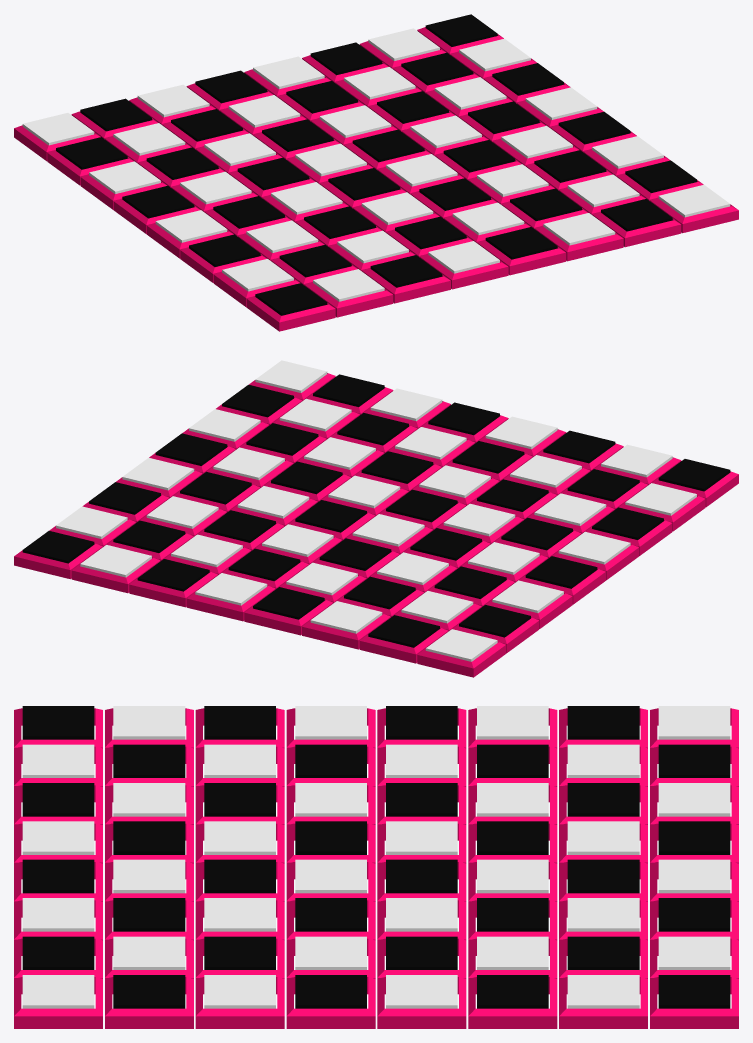
The model's file is chess4.gltf.
The picture shows the model from 3 angles, top to bottom: view 1: azimuth 30°, elevation 25°; view 2: azimuth 150°, elevation 25°; view 3: azimuth 270°, elevation 25°; orthographic projection. The views are drawn at different scales.
Parts seen in each view (by area): view 1: trim.049, tile.030, tile.003, tile.008, tile.009, tile.016, tile.019, tile.025, tile.039, tile, tile.010, tile.015 (+116 smaller); view 2: trim.036, tile.052, tile.002, tile.008, tile.009, tile.042, tile.055, tile.056, tile.059, tile.001, tile.011, tile.014 (+116 smaller); view 3: tile.024, tile.040, tile.032, tile.041, tile, tile.001, tile.016, tile.056, tile.025, tile.026, tile.028, tile.029 (+116 smaller).
Boxes of the visible parts, left/top/right/bottom form: trim.049: left=246, top=296, right=335, bottom=331; tile.030: left=401, top=52, right=473, bottom=85; tile.003: left=328, top=168, right=400, bottom=200; tile.008: left=122, top=185, right=194, bottom=218; tile.009: left=155, top=210, right=227, bottom=242; tile.016: left=319, top=105, right=391, bottom=137; tile.019: left=146, top=147, right=218, bottom=179; tile.025: left=228, top=95, right=300, bottom=127; tile.039: left=310, top=42, right=382, bottom=75; tile: left=352, top=129, right=424, bottom=162; tile.010: left=525, top=87, right=597, bottom=119; tile.015: left=443, top=140, right=515, bottom=172; trim.036: left=417, top=642, right=506, bottom=677; tile.052: left=279, top=398, right=351, bottom=431; tile.002: left=352, top=514, right=424, bottom=546; tile.008: left=525, top=556, right=597, bottom=588; tile.009: left=558, top=531, right=630, bottom=564; tile.042: left=452, top=441, right=524, bottom=473; tile.055: left=370, top=388, right=442, bottom=421; tile.056: left=361, top=451, right=433, bottom=483; tile.059: left=534, top=493, right=606, bottom=525; tile.001: left=328, top=475, right=400, bottom=508; tile.011: left=155, top=433, right=227, bottom=465; tile.014: left=237, top=486, right=309, bottom=518; tile.024: left=567, top=859, right=639, bottom=893; tile.040: left=113, top=859, right=185, bottom=893; tile.032: left=658, top=859, right=730, bottom=893; tile.041: left=22, top=859, right=94, bottom=893; tile: left=386, top=859, right=457, bottom=893; tile.001: left=295, top=859, right=366, bottom=893; tile.016: left=477, top=859, right=548, bottom=893; tile.056: left=204, top=859, right=275, bottom=893; tile.025: left=567, top=821, right=639, bottom=854; tile.026: left=567, top=783, right=639, bottom=816; tile.028: left=567, top=706, right=639, bottom=739; tile.029: left=567, top=975, right=639, bottom=1008.
Size of the model in its own units: 15.96 by 0.485 by 15.96.
